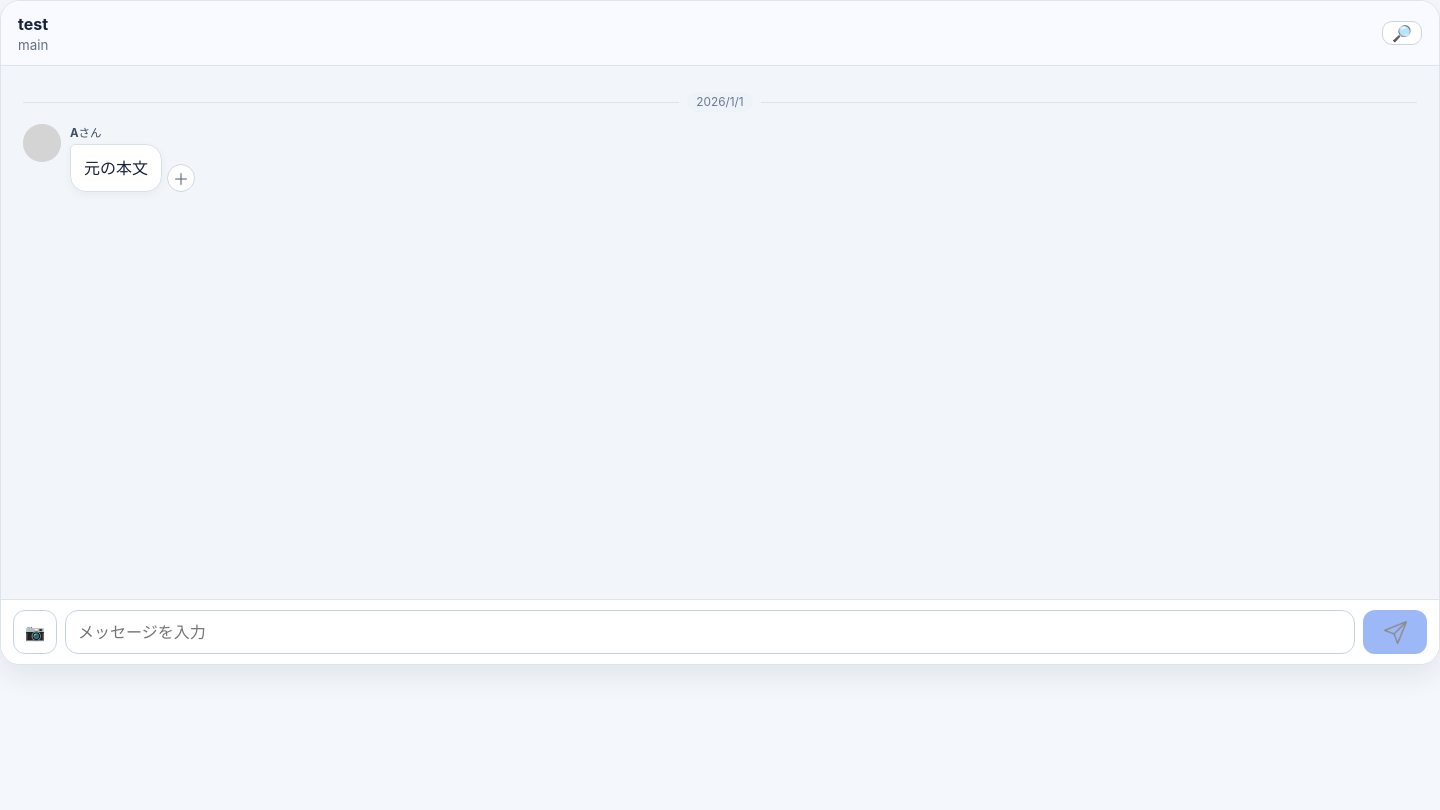
chat missing legacy features › provides selectable plain text without rendering message markup
The image size is (1440, 810).
Right-click the element showing "Aさん 元の本文 ＋" at (109, 158), box [23,124,195,192]
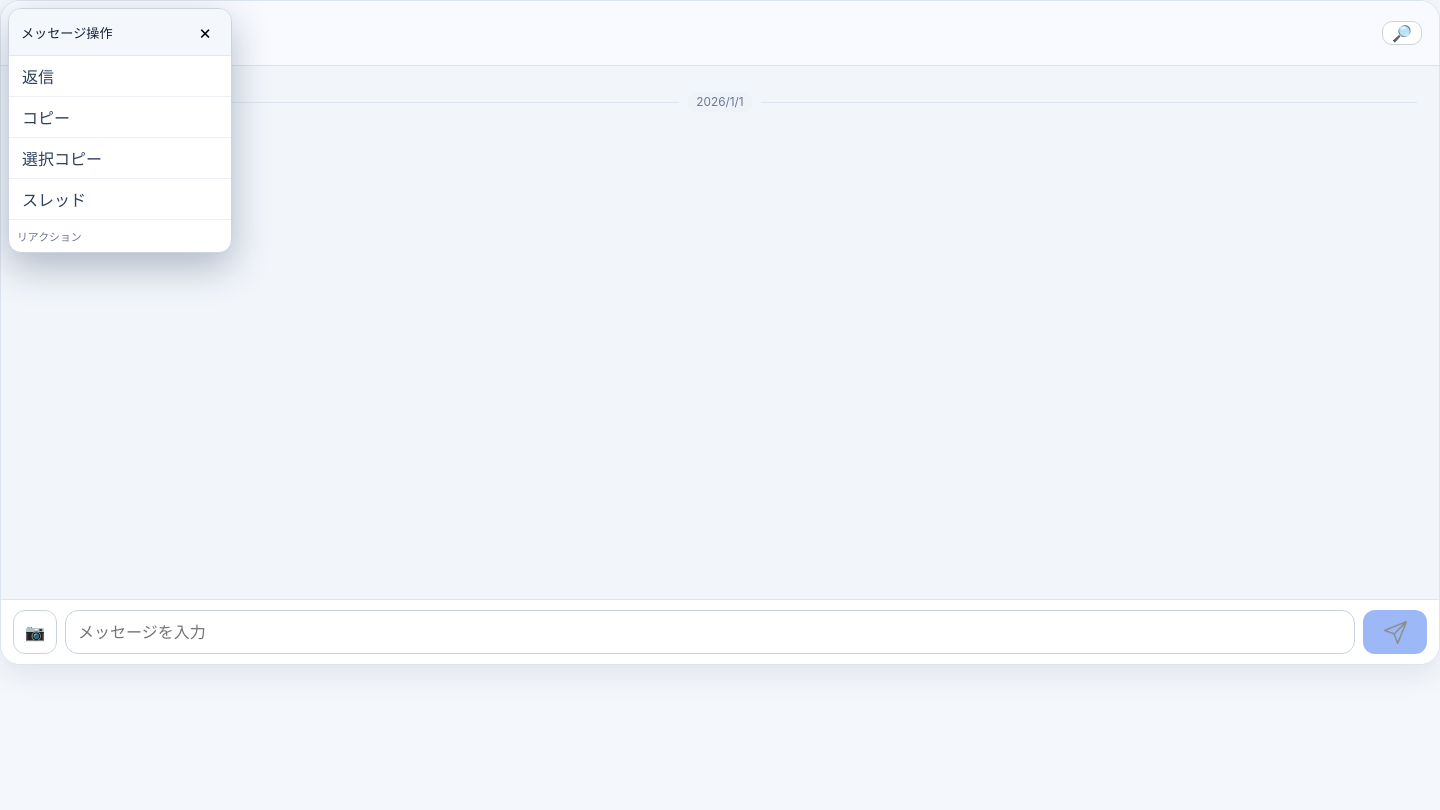
Click the button "選択コピー". click: (120, 158)
box: [9,138,231,179]
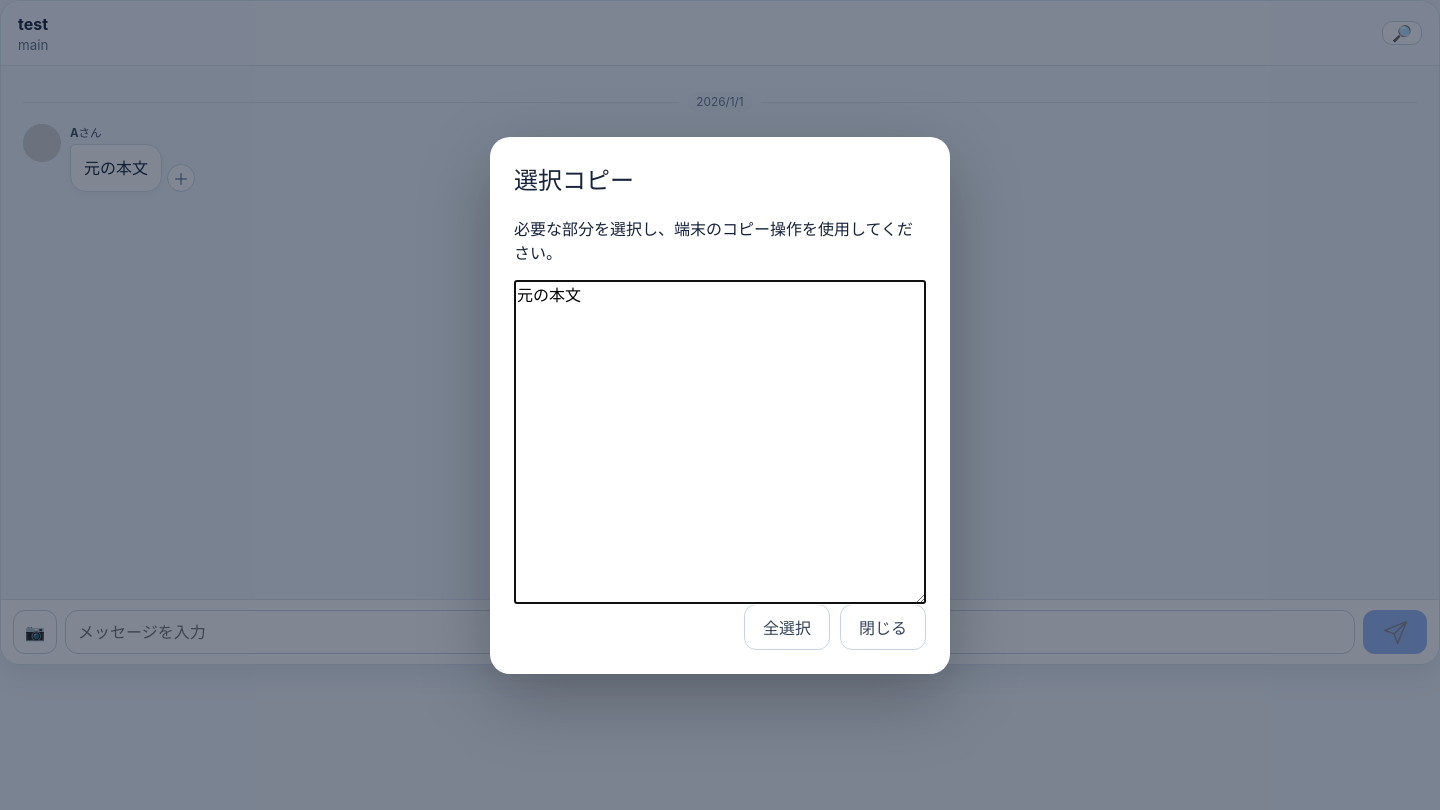
Now the text box named "コピーするメッセージ" holds "元の本文", box [514,280,926,604]
